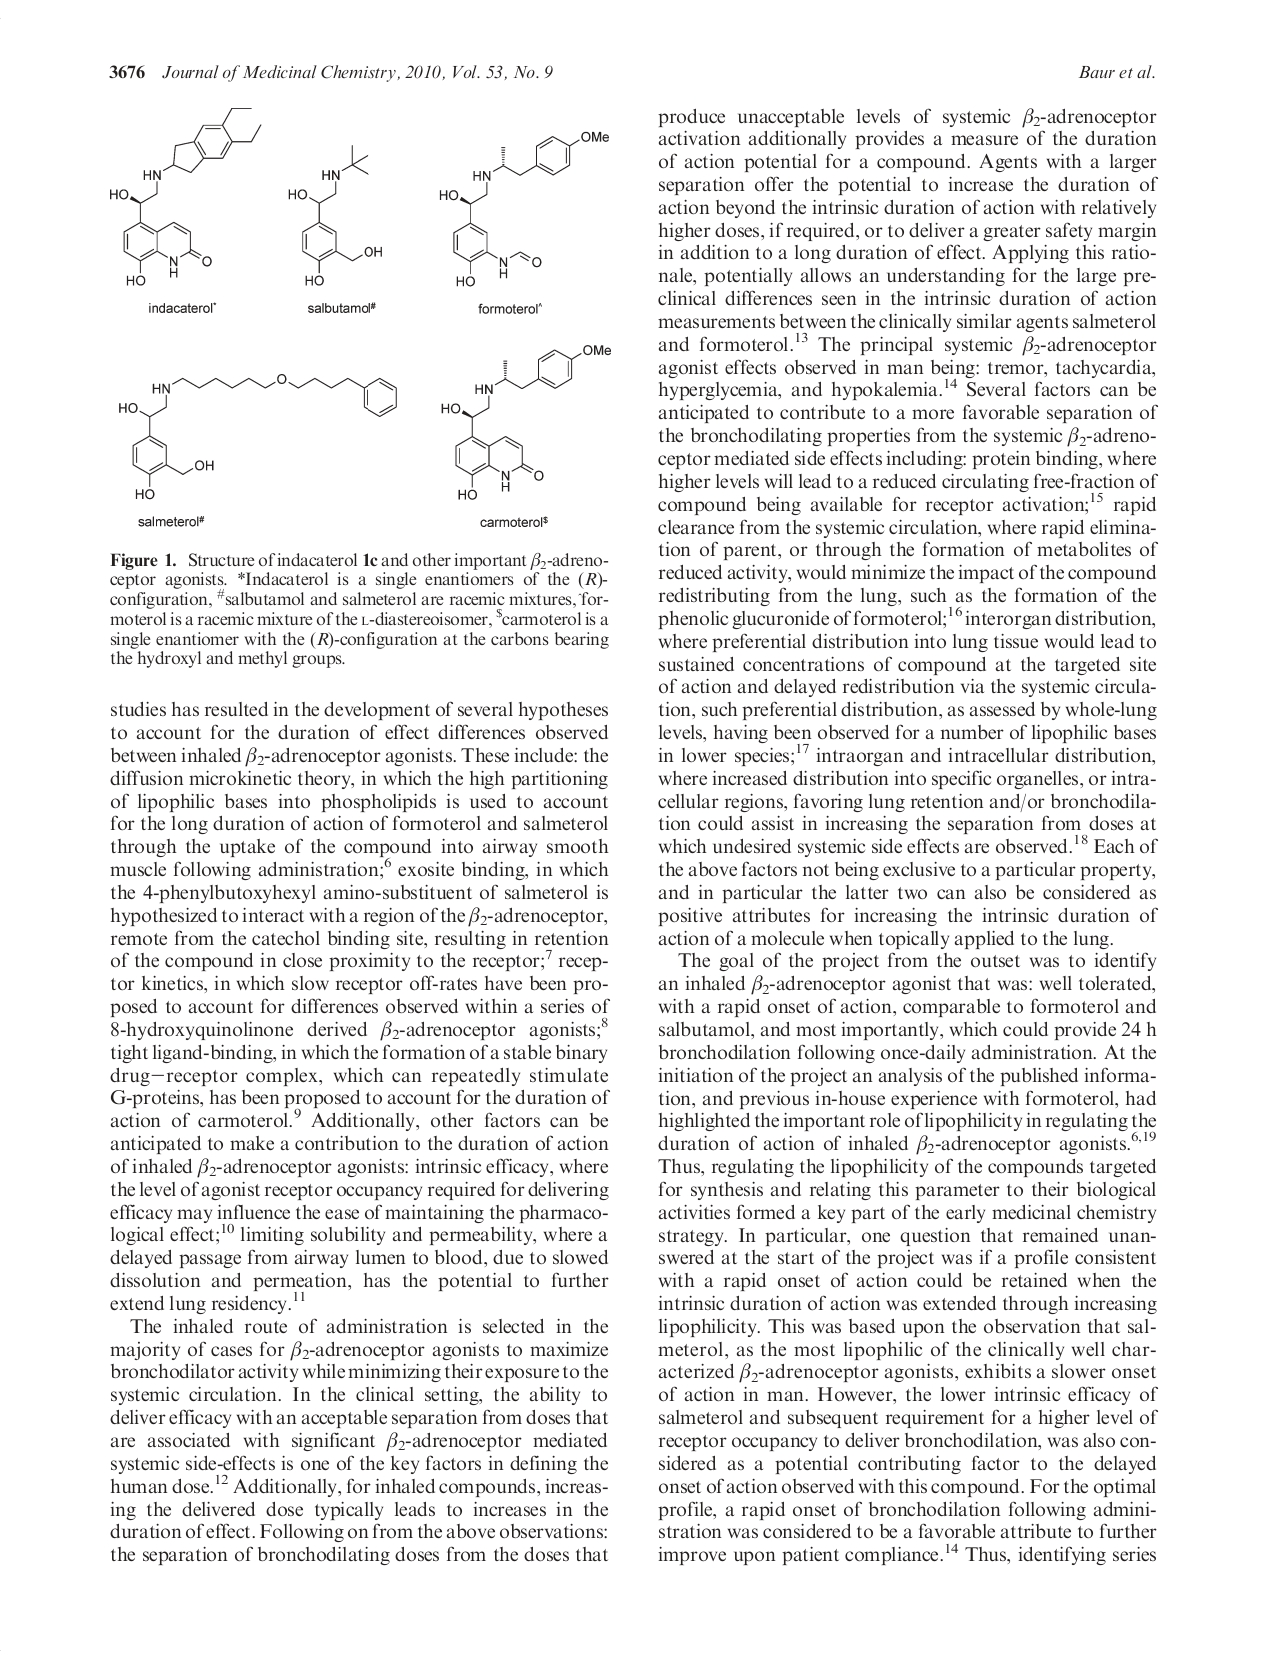exist_molecular: (112, 370, 403, 505), (431, 118, 620, 290), (106, 105, 269, 289), (438, 339, 614, 507), (285, 132, 384, 290)
